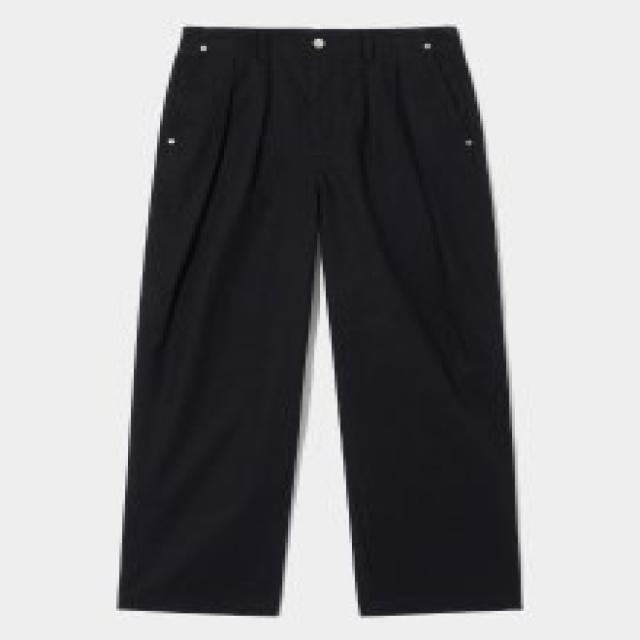long-pants: (117, 25, 528, 618)
